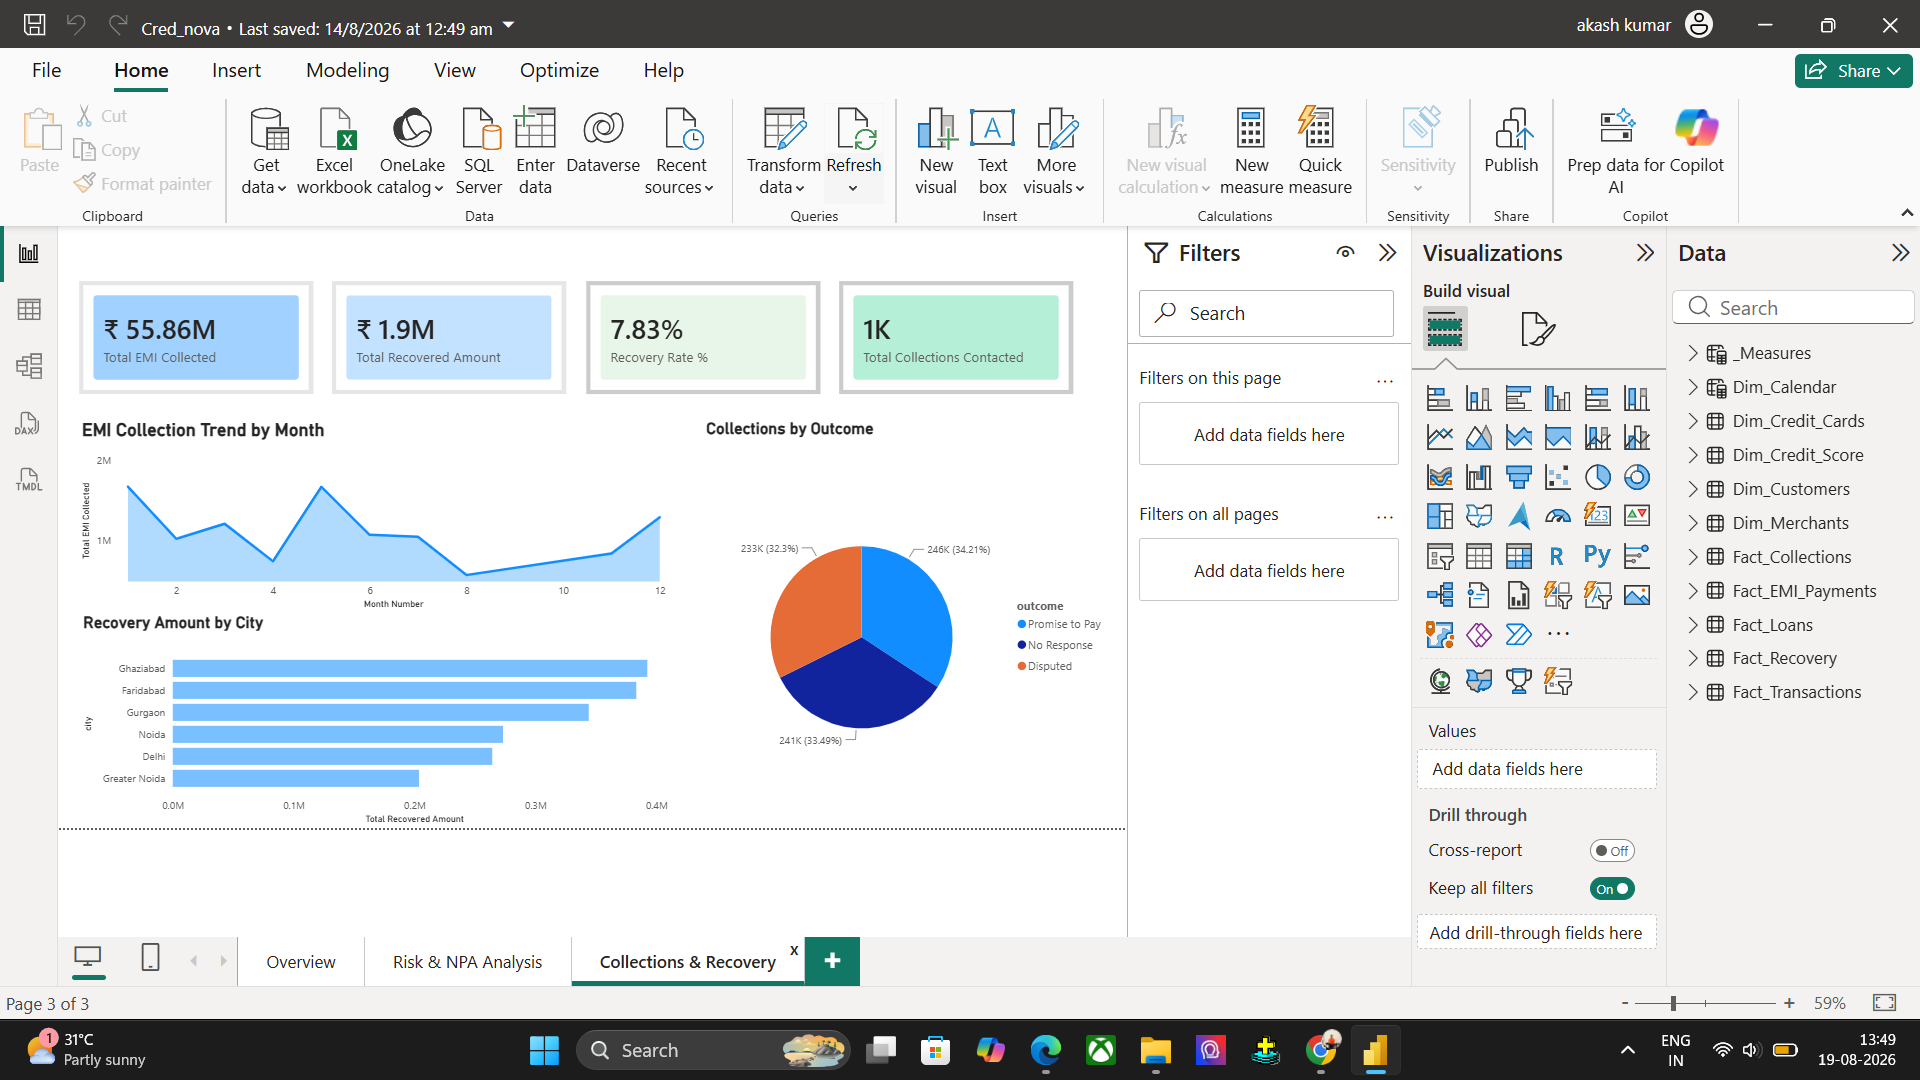

The page's visual inventory and layout, read from the dashboard file:
{"tool":"powerbi","page":{"name":"Collections & Recovery","canvas":[1280,720],"ordinal":2},"visuals":[{"type":"cardVisual","fields":{"Data":["_Measures.Total EMI Collected"]},"box":[25.4,65.9,280.6,135.2],"z":0},{"type":"cardVisual","fields":{"Data":["_Measures.Total Recovered Amount"]},"box":[328.5,65.9,280.6,135.2],"z":1000},{"type":"cardVisual","fields":{"Data":["_Measures.Recovery Rate %"]},"box":[631.7,65.9,280.6,135.2],"z":2000},{"type":"cardVisual","fields":{"Data":["_Measures.Total Collections Contacted"]},"box":[934.9,65.9,280.6,135.2],"z":3000},{"type":"lineChart","title":"EMI Collection Trend by Month","fields":{"Category":["Dim_Calendar.Month Number"],"Y":["_Measures.Total EMI Collected"]},"box":[23.7,231.6,711.7,231.6],"z":4000},{"type":"clusteredBarChart","title":"Recovery Amount by City","fields":{"Category":["Dim_Customers.city"],"Y":["_Measures.Total Recovered Amount"]},"box":[25.4,463,710,257],"z":5000},{"type":"pieChart","title":"Collections by Outcome","fields":{"Category":["Fact_Collections.outcome"],"Y":["Sum(Fact_Collections.collection_id)"]},"box":[770.9,231.4,491.9,488.6],"z":6000}]}

Visuals, with their boxes on the page's 1280x720 design canvas (x1, y1, x2, y2). These are canvas units, not pixel positions in the 1920x1080 screenshot, which may show the page scaled, cropped or inside an application window:
cardVisual - _Measures.Total EMI Collected: (25, 66, 306, 201)
cardVisual - _Measures.Total Recovered Amount: (328, 66, 609, 201)
cardVisual - _Measures.Recovery Rate %: (632, 66, 912, 201)
cardVisual - _Measures.Total Collections Contacted: (935, 66, 1216, 201)
"EMI Collection Trend by Month" lineChart: (24, 232, 735, 463)
"Recovery Amount by City" clusteredBarChart: (25, 463, 735, 720)
"Collections by Outcome" pieChart: (771, 231, 1263, 720)
